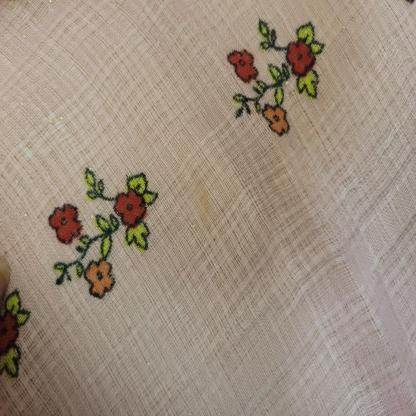spot: (196, 176, 212, 213)
